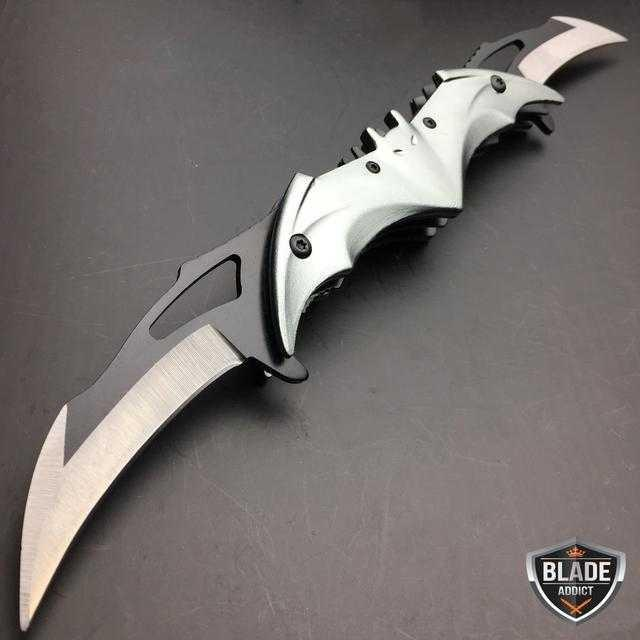Knife: (12, 3, 640, 631)
